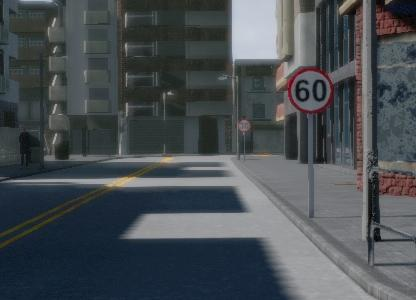Speed_30: (303, 87, 348, 135)
